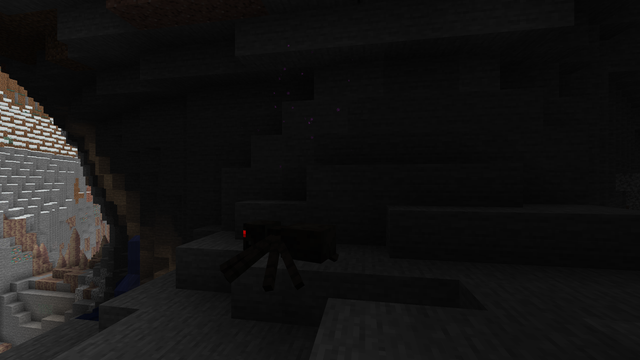araignees: (226, 213, 325, 286)
